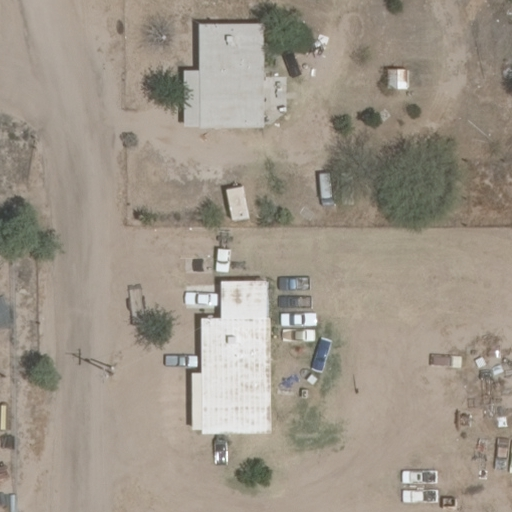DT: (99, 358, 121, 382)
